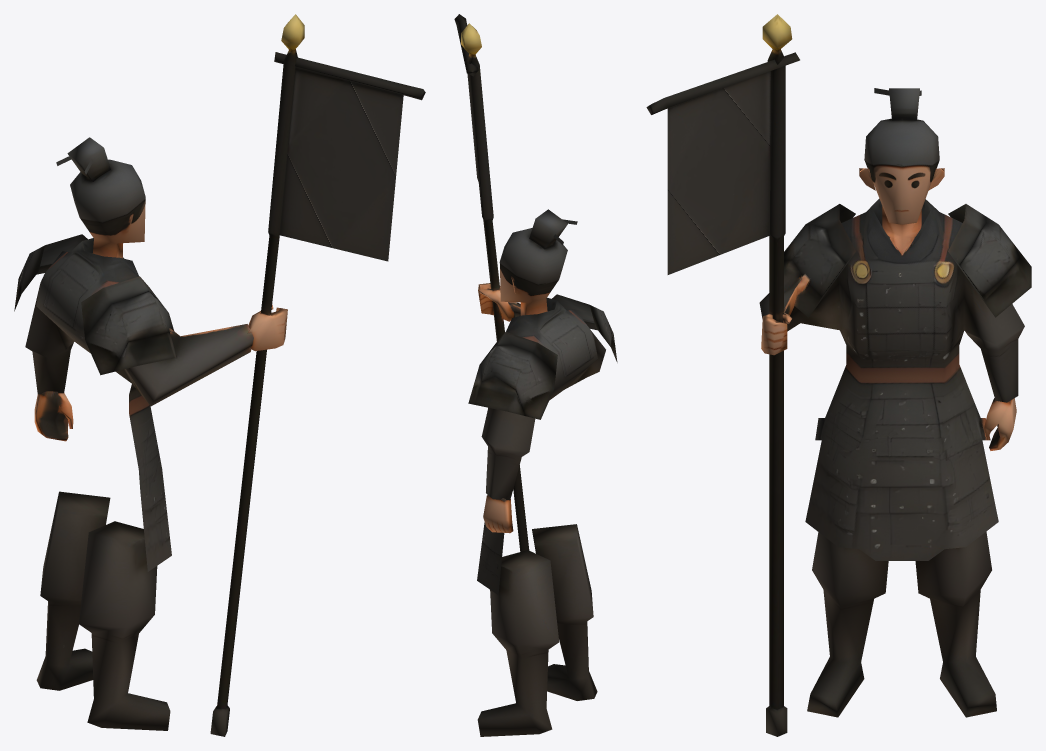
The model's file is soldier_black.glb.
3 views of the same model, side by side, from view 1: azimuth 30°, elevation 25°; view 2: azimuth 150°, elevation 25°; view 3: azimuth 270°, elevation 25° (orthographic). The views are drawn at different scales.
Visible parts, largest first — view 1: tripo_node_1f36f5d8-e6c4-4767-80ef-2f8f7707e8ce; view 2: tripo_node_1f36f5d8-e6c4-4767-80ef-2f8f7707e8ce; view 3: tripo_node_1f36f5d8-e6c4-4767-80ef-2f8f7707e8ce.
Boxes of the visible parts, x1=… form: tripo_node_1f36f5d8-e6c4-4767-80ef-2f8f7707e8ce: x1=14, y1=14, x2=425, y2=736; tripo_node_1f36f5d8-e6c4-4767-80ef-2f8f7707e8ce: x1=454, y1=14, x2=617, y2=736; tripo_node_1f36f5d8-e6c4-4767-80ef-2f8f7707e8ce: x1=646, y1=14, x2=1031, y2=736.
Size of the model in its own units: 0.3848 by 0.998 by 0.459.
1 material, 1 textured.
